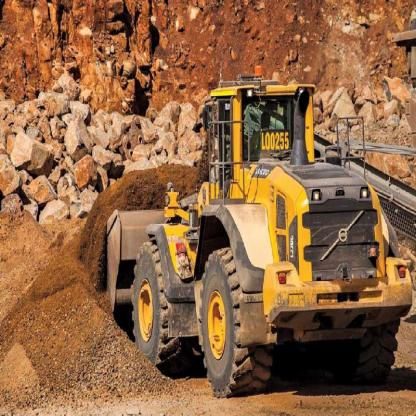bull_dozer/loader/grader: (95, 67, 411, 399)
